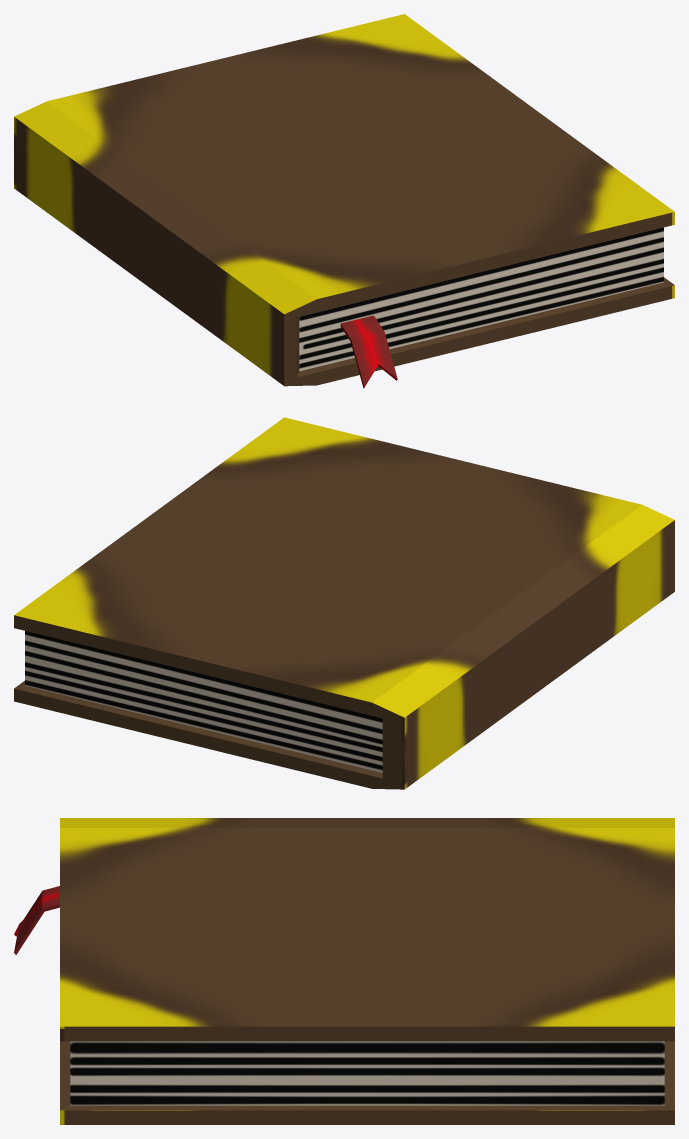
Rendered from Book 3.glb.
3 renders of one model, top to bottom at view 1: azimuth 30°, elevation 25°; view 2: azimuth 150°, elevation 25°; view 3: azimuth 270°, elevation 25°, orthographic. The views are drawn at different scales.
Parts seen in each view (by area): view 1: Cube.003, Plane.003; view 2: Cube.003; view 3: Cube.003, Plane.003.
Part boxes in pixels (bbox=[...]): Cube.003: bbox=[14, 14, 674, 386]; Plane.003: bbox=[340, 315, 397, 388]; Cube.003: bbox=[14, 417, 674, 789]; Cube.003: bbox=[60, 818, 674, 1124]; Plane.003: bbox=[14, 886, 59, 954].
Size of the model in its own units: 0.2261 by 0.0477 by 0.2911.
Materials: 3 (3 with a texture image).
